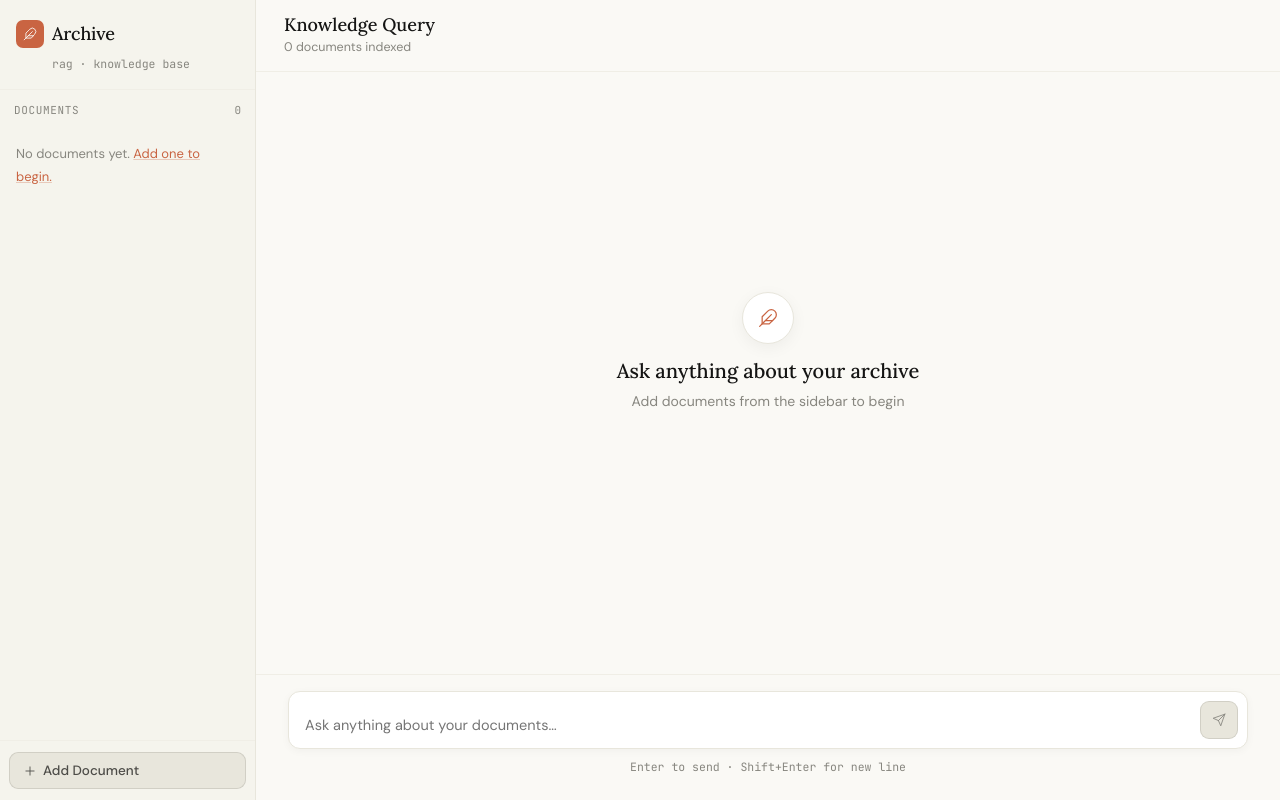
Test: App › appends user and assistant messages on query
Expected: the text "Ask anything about your archive" is shown, [617,358,919,384]
In the text box with placeholder "Ask anything about your documents…": (748, 726) [305,714,1191,738], type "What is the capital of France?"
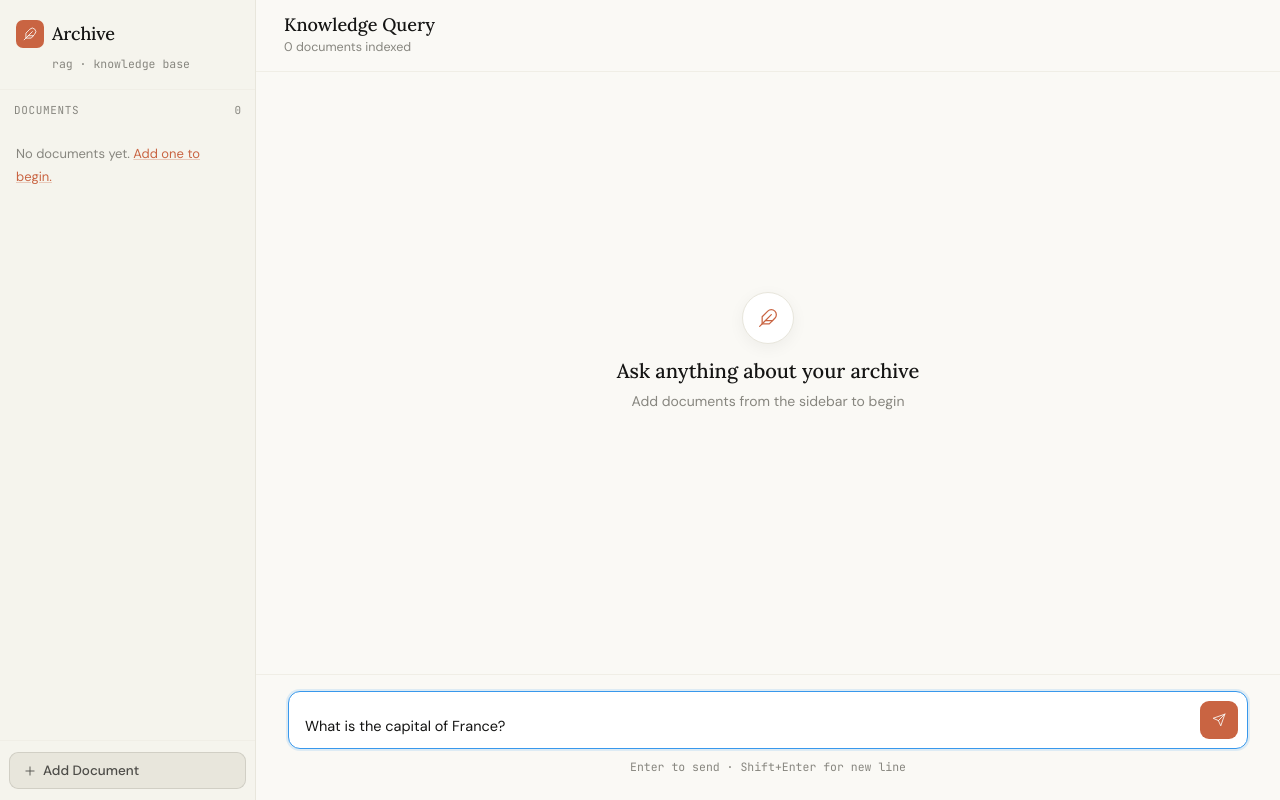
Press Enter
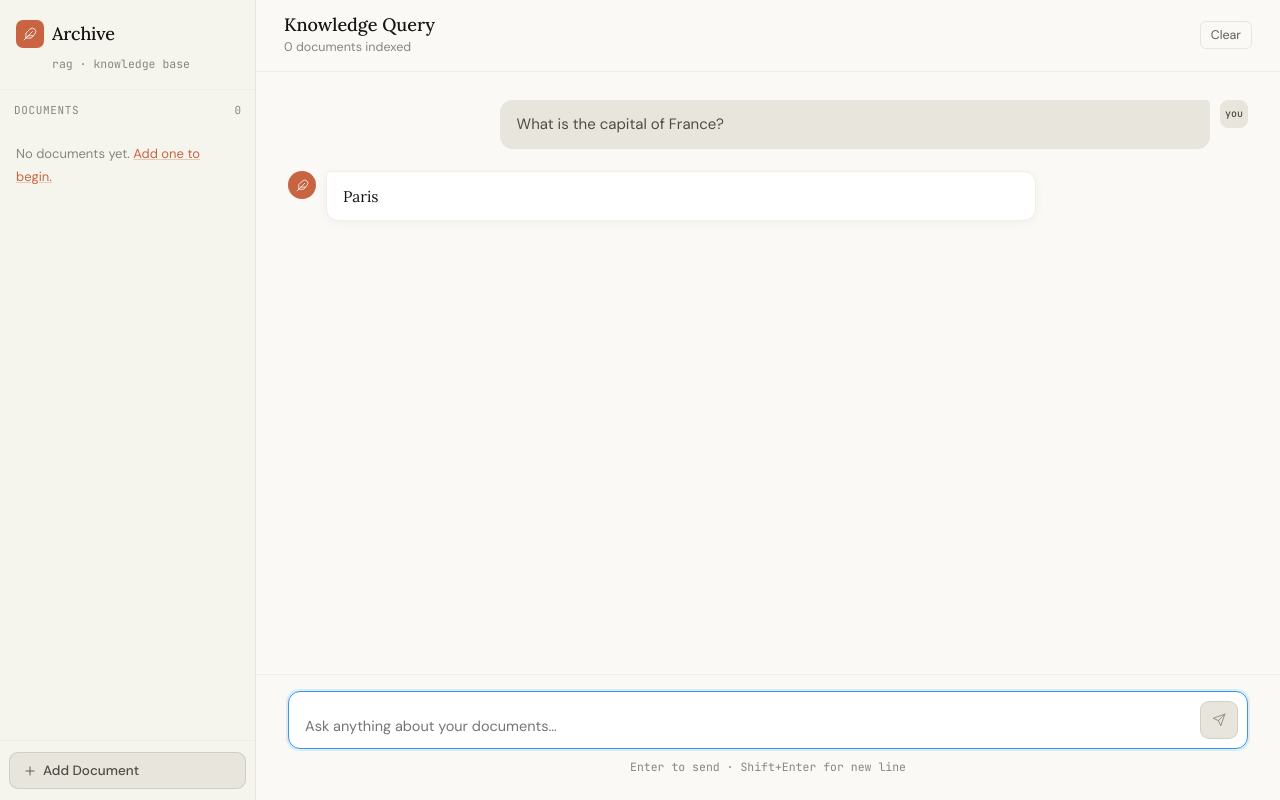
Now the text "Paris" is shown, box [343,186,378,206]
Now the text "What is the capital of France?" is shown, box [517,114,724,134]
